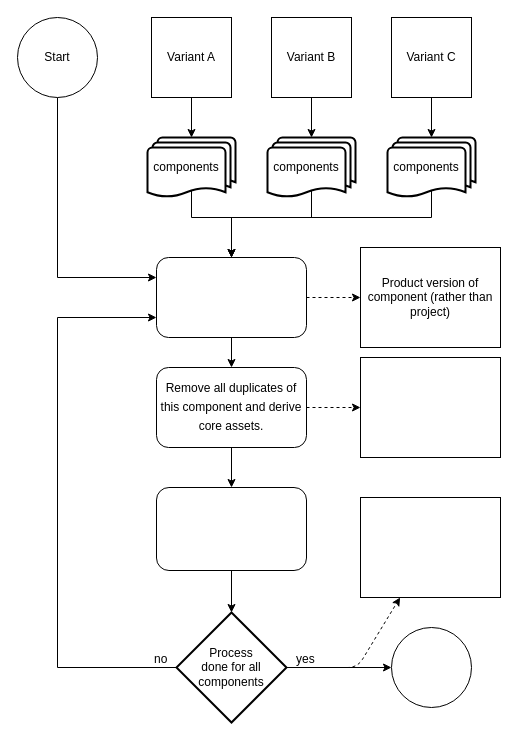
Some shapes in this 518 by 741 pixel diagram are drawn without their labels. The shapes that lost their labels are listed below. From the top down, each one's box as (x1, y1, x2, y2) in pixels, then its label:
(156, 256, 306, 338): Choose a legacy component and move it to the generic implementation directory.
(360, 356, 500, 458): Reduced number of component variants
(156, 486, 306, 570): Refactor the component with focus on variability
(360, 496, 500, 598): All components available as configurable sources and feature model in place
(390, 626, 472, 708): End
